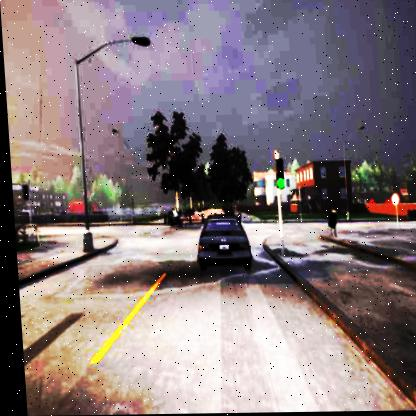motobike: (165, 209, 178, 227)
vehicle: (191, 217, 250, 272)
